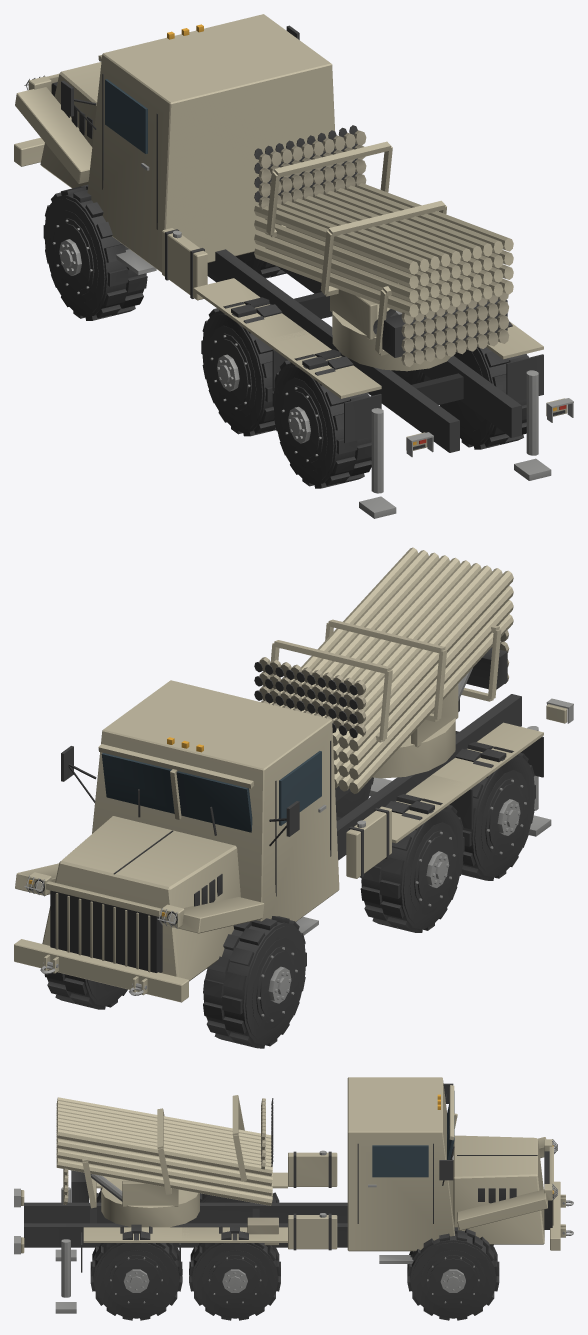
File: rus_mlrs_grad.glb
The picture shows the model from 3 angles, top to bottom: view 1: azimuth 30°, elevation 25°; view 2: azimuth 150°, elevation 25°; view 3: azimuth 270°, elevation 25°; orthographic projection. The views are drawn at different scales.
Visible parts, largest first — view 1: body, barrel, wheel_0, wheel_4, wheel_2, turret, wheel_5; view 2: body, barrel, wheel_0, wheel_2, wheel_4, turret, wheel_1, wheel_5; view 3: body, barrel, wheel_1, wheel_5, wheel_3, turret, wheel_2.
Part boxes in pixels (<box>): body: <box>14,14,573,518</box>; barrel: <box>254,125,513,366</box>; wheel_0: <box>43,184,147,320</box>; wheel_4: <box>272,349,371,488</box>; wheel_2: <box>201,297,282,436</box>; turret: <box>330,289,450,371</box>; wheel_5: <box>440,321,528,449</box>; body: <box>14,680,573,1002</box>; barrel: <box>254,547,513,793</box>; wheel_0: <box>203,916,306,1048</box>; wheel_2: <box>360,794,464,932</box>; wheel_4: <box>455,742,535,880</box>; turret: <box>372,668,472,778</box>; wheel_1: <box>44,970,127,1009</box>; wheel_5: <box>335,777,373,817</box>; body: <box>14,1077,573,1313</box>; barrel: <box>56,1095,273,1208</box>; wheel_1: <box>407,1227,499,1320</box>; wheel_5: <box>90,1224,182,1320</box>; wheel_3: <box>189,1224,280,1320</box>; turret: <box>90,1174,199,1227</box>; wheel_2: <box>200,1192,279,1202</box>.
Bounding box in the file's own units: 2.4 × 2.71 × 7.36.
